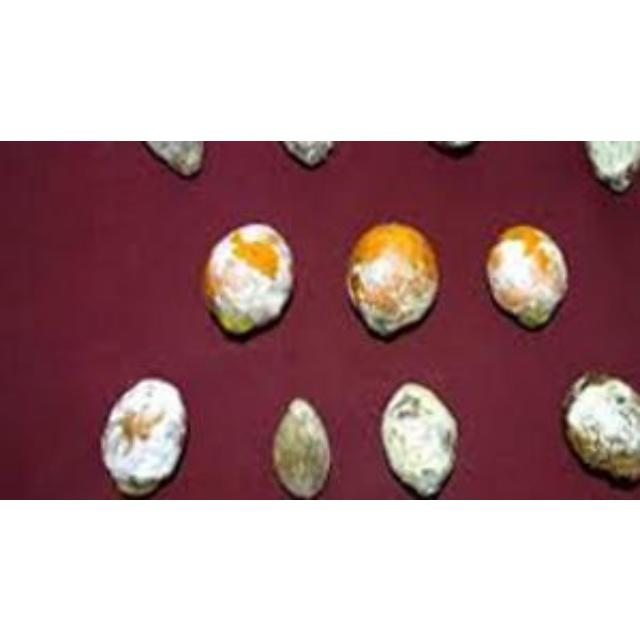damaged: (347, 221, 437, 333), (101, 378, 184, 491), (205, 226, 291, 333), (488, 223, 565, 326), (383, 382, 452, 493), (565, 373, 638, 476), (274, 397, 327, 495)
